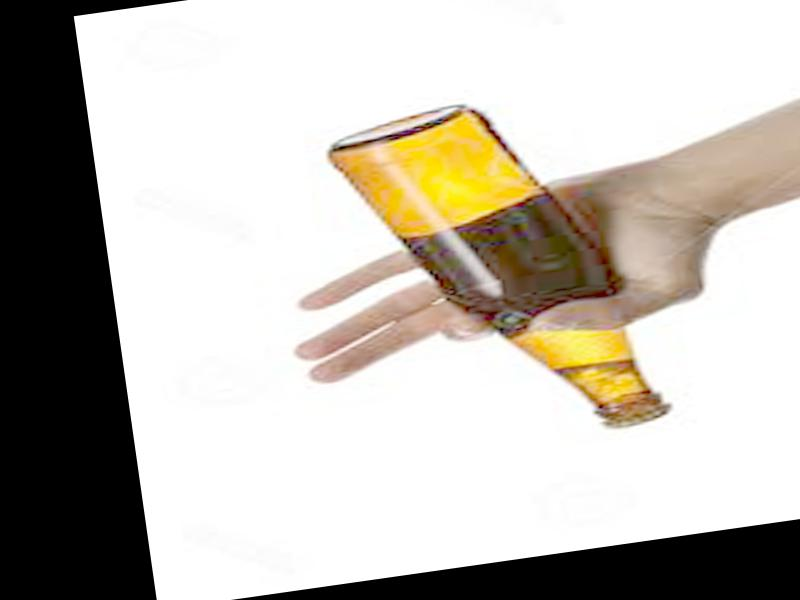Beer: (332, 83, 665, 454)
